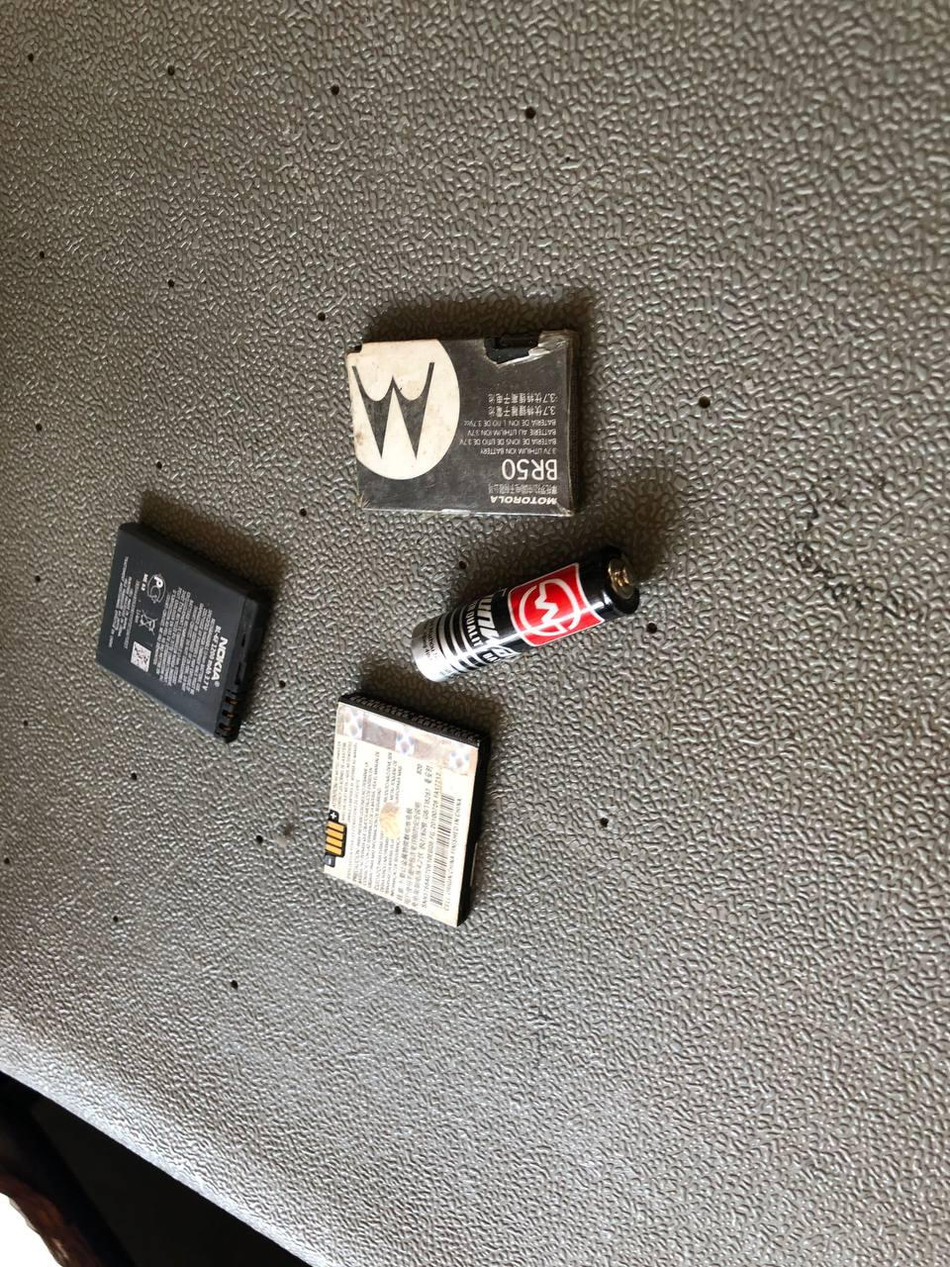AAA: (376, 528, 675, 713)
